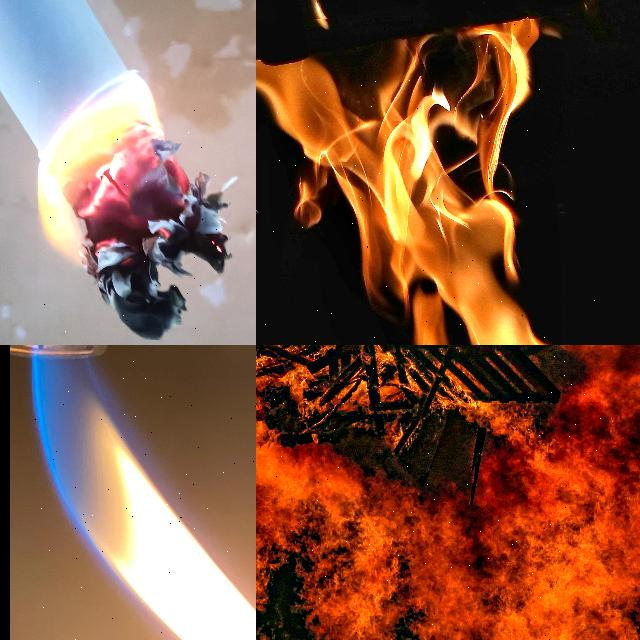fire: (256, 19, 551, 345), (256, 345, 602, 591), (32, 358, 256, 640), (39, 73, 229, 339)
